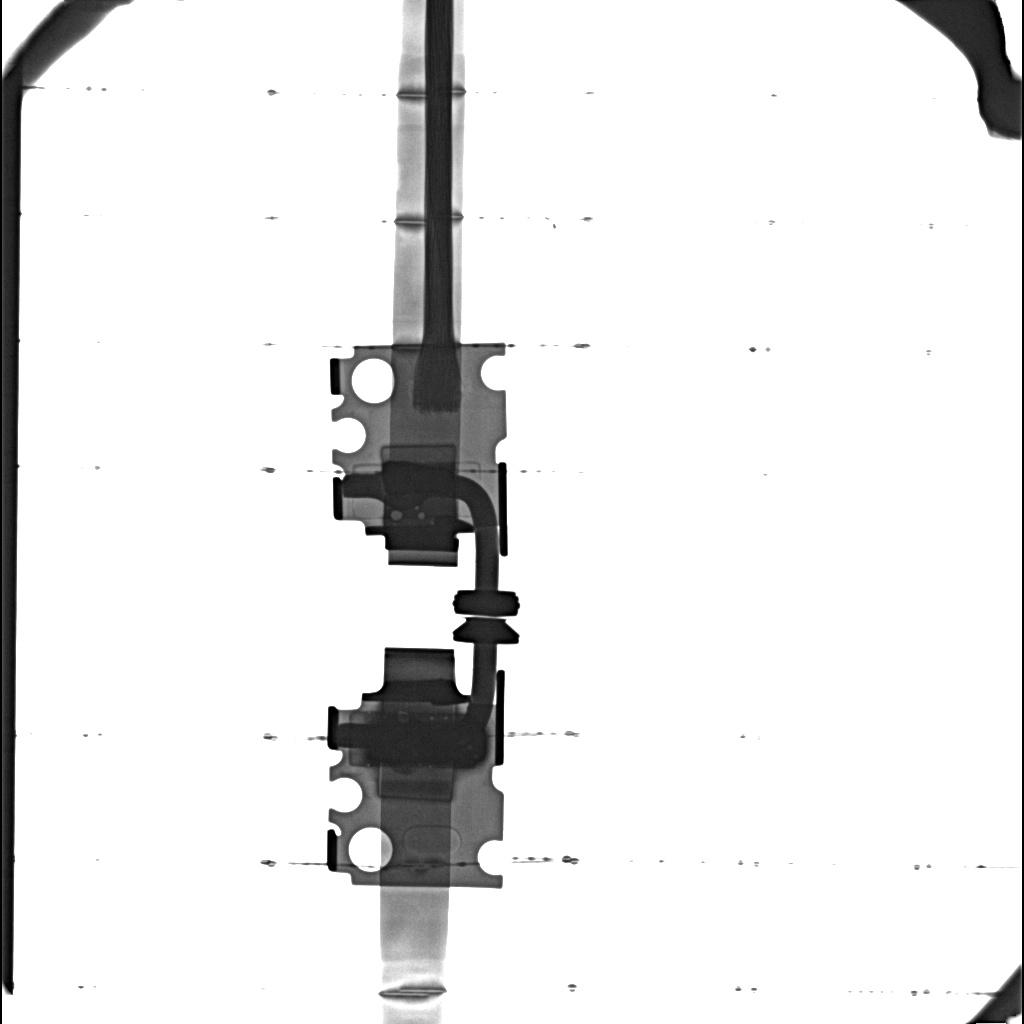PX: (376, 765, 454, 803), (380, 444, 456, 471)
QP: (391, 511, 403, 521), (418, 512, 425, 520)
SX: (368, 718, 487, 767), (382, 462, 453, 509)
